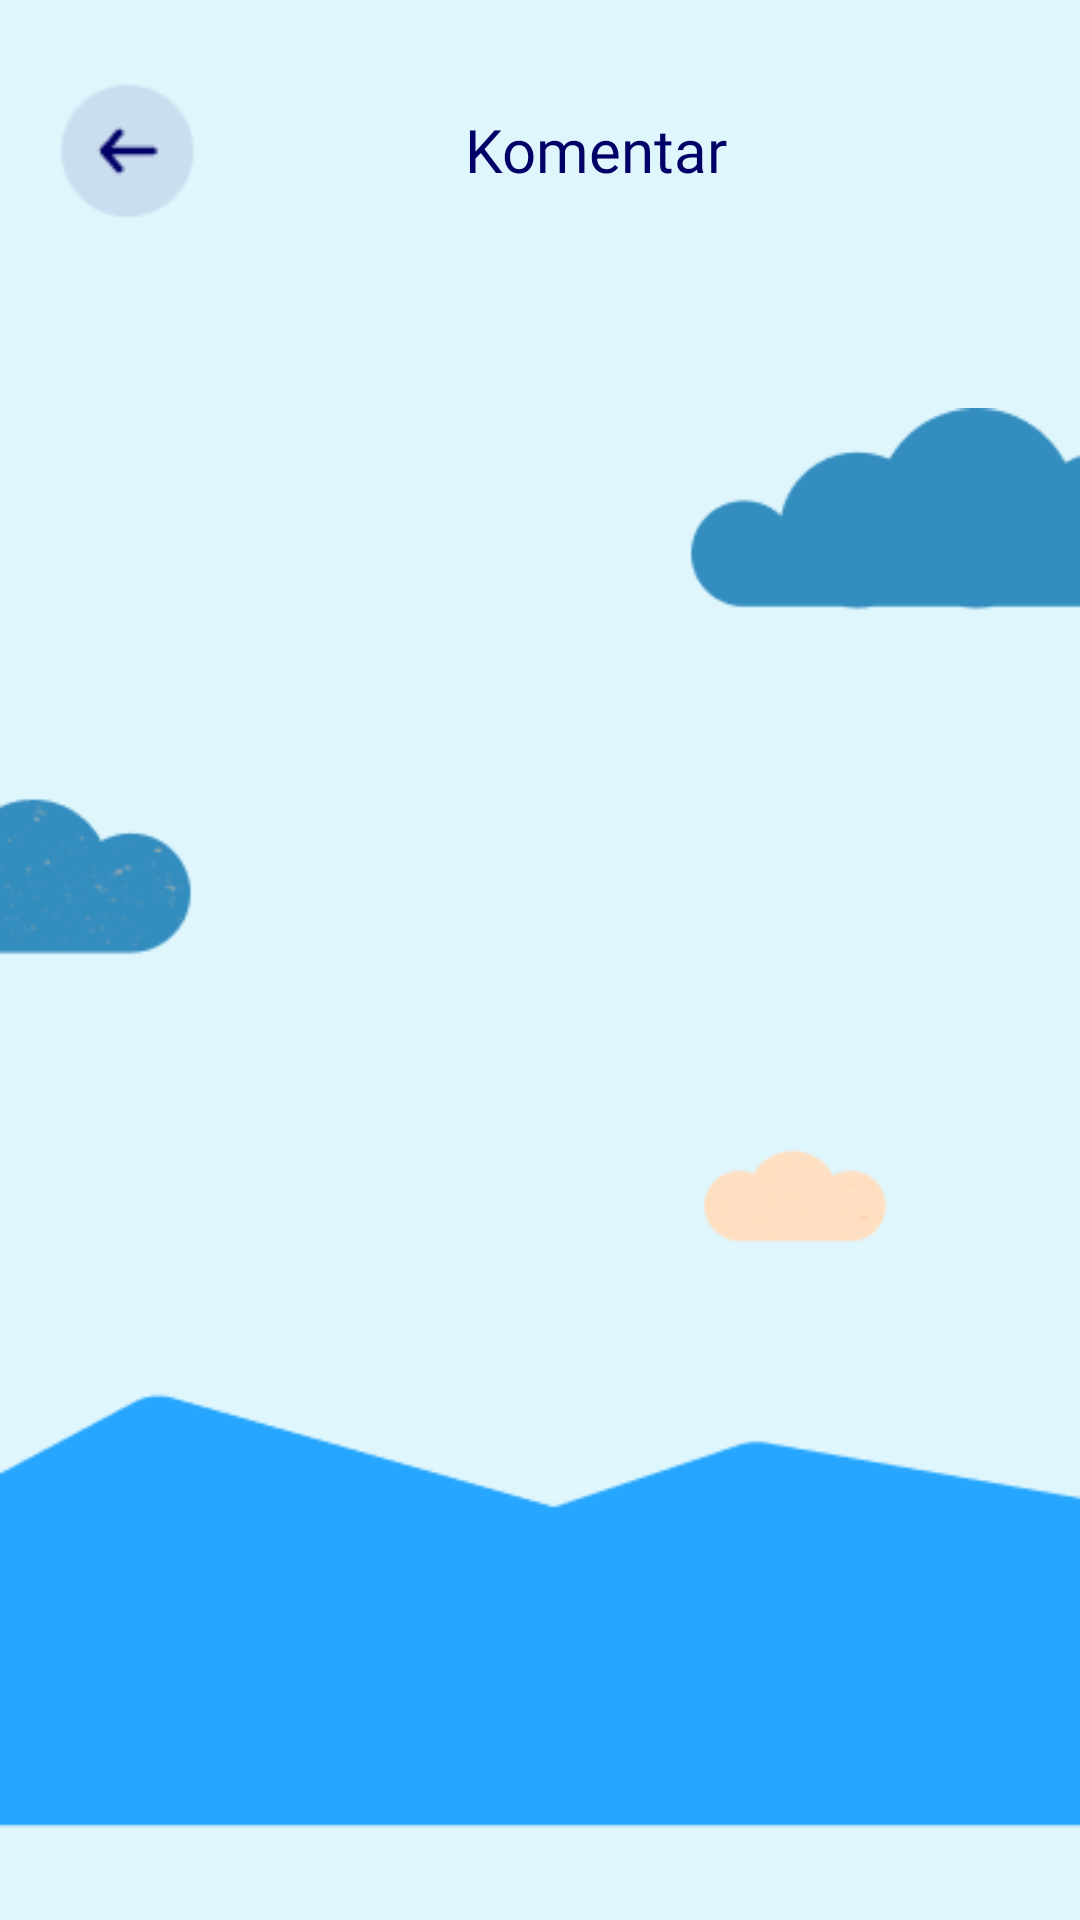

Icon click points for this 1080 × 1920 phone screenshot, format (x,y):
back: (127,151)
